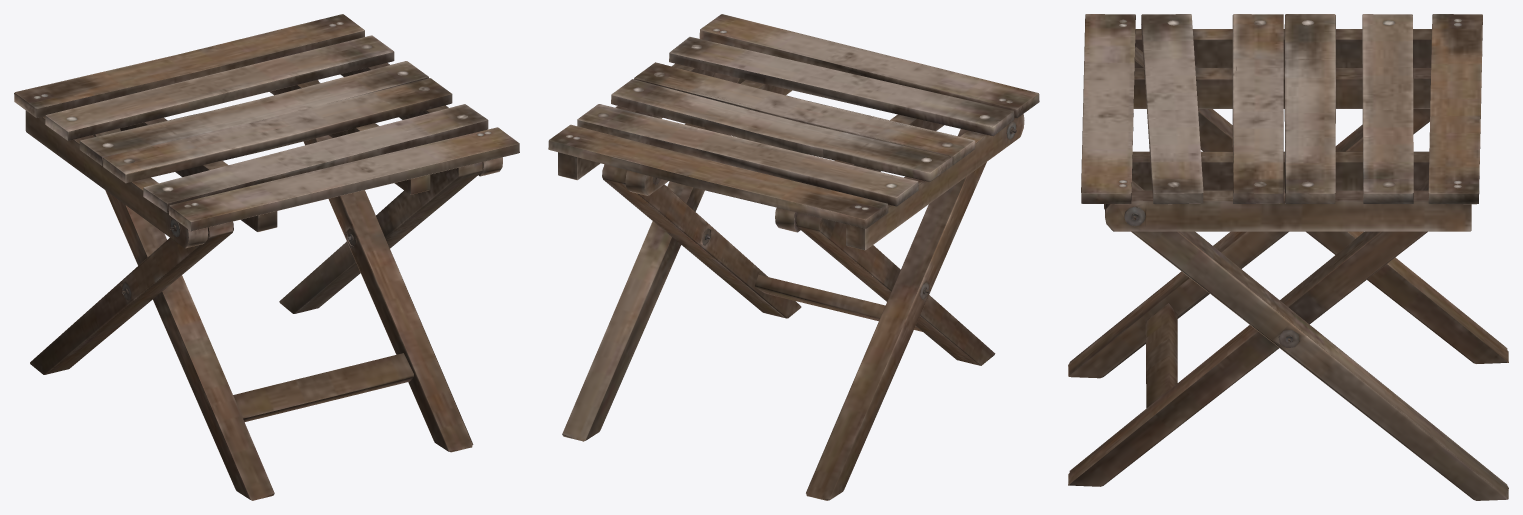
Rendered from banquinho.glb.
3 renders of one model, left to right at view 1: azimuth 30°, elevation 25°; view 2: azimuth 150°, elevation 25°; view 3: azimuth 270°, elevation 25°, orthographic. The views are drawn at different scales.
Visible parts, largest first — view 1: banquinho; view 2: banquinho; view 3: banquinho.
Part boxes in pixels (left/top/right/bottom): banquinho: left=14, top=14, right=519, bottom=500; banquinho: left=548, top=14, right=1039, bottom=500; banquinho: left=1068, top=14, right=1508, bottom=500.
Bounding box in the file's own units: 0.5271 × 0.4407 × 0.5461.
Materials: 1 (1 with a texture image).
